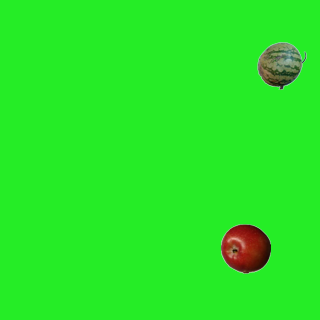Apple Braeburn: (220, 223, 270, 273)
Watermelon: (256, 40, 306, 90)
